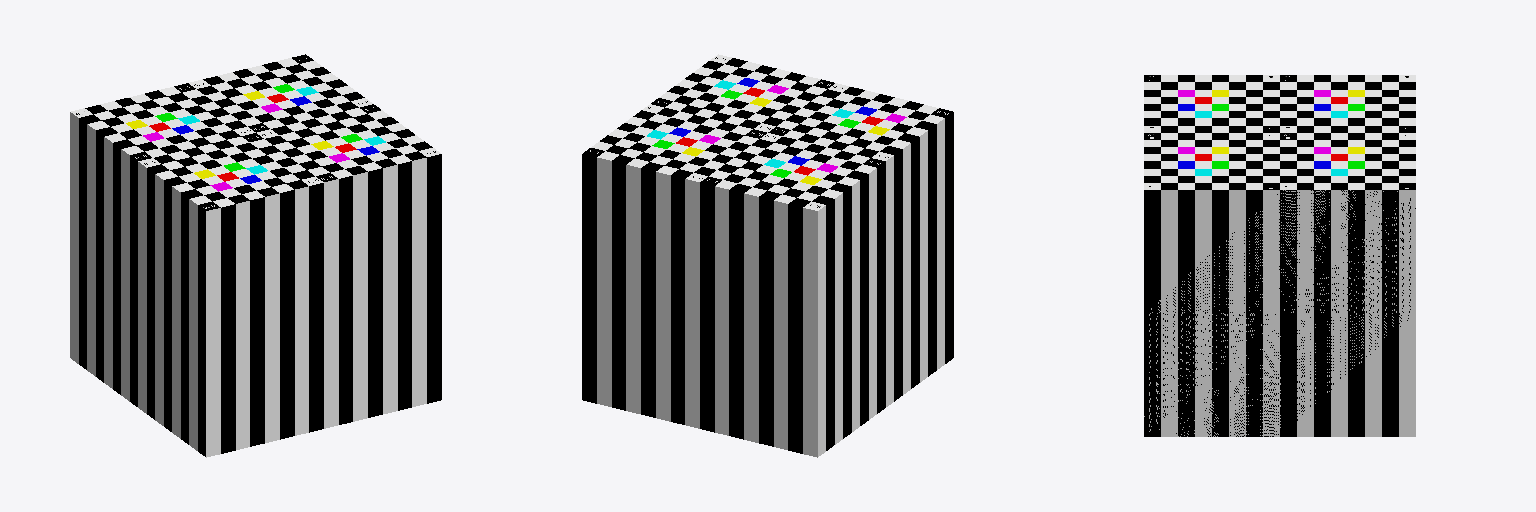
3 renders of one model, left to right at view 1: azimuth 30°, elevation 25°; view 2: azimuth 150°, elevation 25°; view 3: azimuth 270°, elevation 25°, orthographic.
Visible parts, largest first — view 1: box; view 2: box; view 3: box.
Boxes of the visible parts, <box> form: box: <box>70,54,441,457</box>; box: <box>582,54,953,457</box>; box: <box>1144,75,1415,436</box>.
Bounding box in the file's own units: 1 × 1 × 1.
Materials: 1 (1 with a texture image).